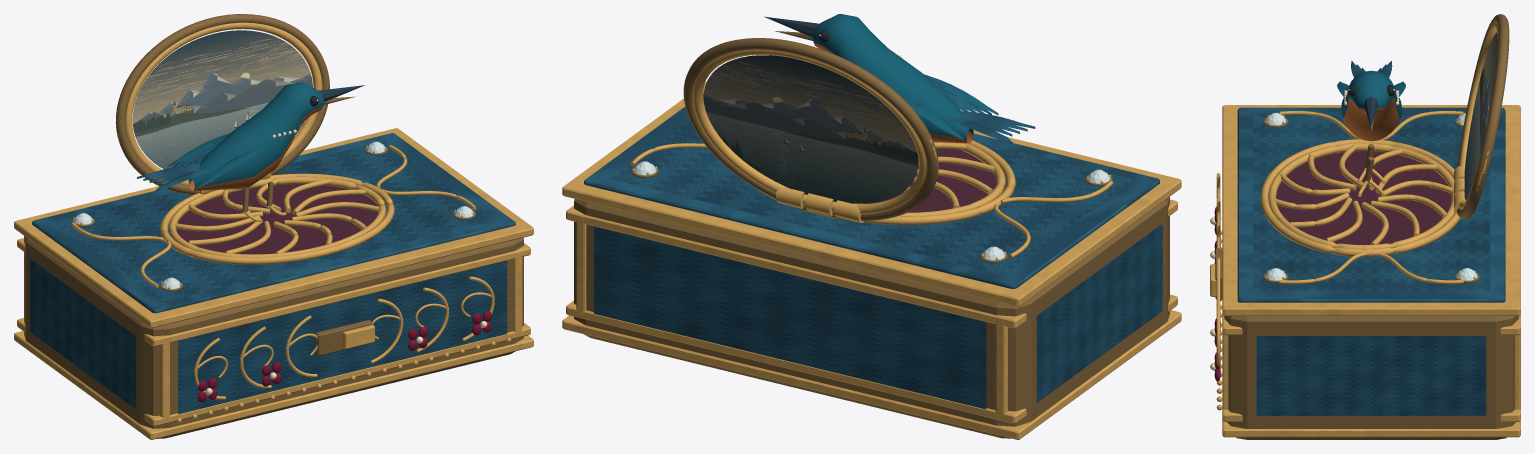
The model's file is singing_bird_box.fbx.
3 views of the same model, side by side, from view 1: azimuth 30°, elevation 25°; view 2: azimuth 150°, elevation 25°; view 3: azimuth 270°, elevation 25° (orthographic). The views are drawn at different scales.
Parts seen in each view (by area): view 1: singing_bird_box joinery; view 2: singing_bird_box joinery; view 3: singing_bird_box joinery.
Part boxes in pixels (x1,y1,x2,y2): singing_bird_box joinery: (14, 14, 533, 439); singing_bird_box joinery: (562, 14, 1181, 439); singing_bird_box joinery: (1210, 14, 1520, 439).
Size of the model in its own units: 0.126 by 0.0899 by 0.0812.
